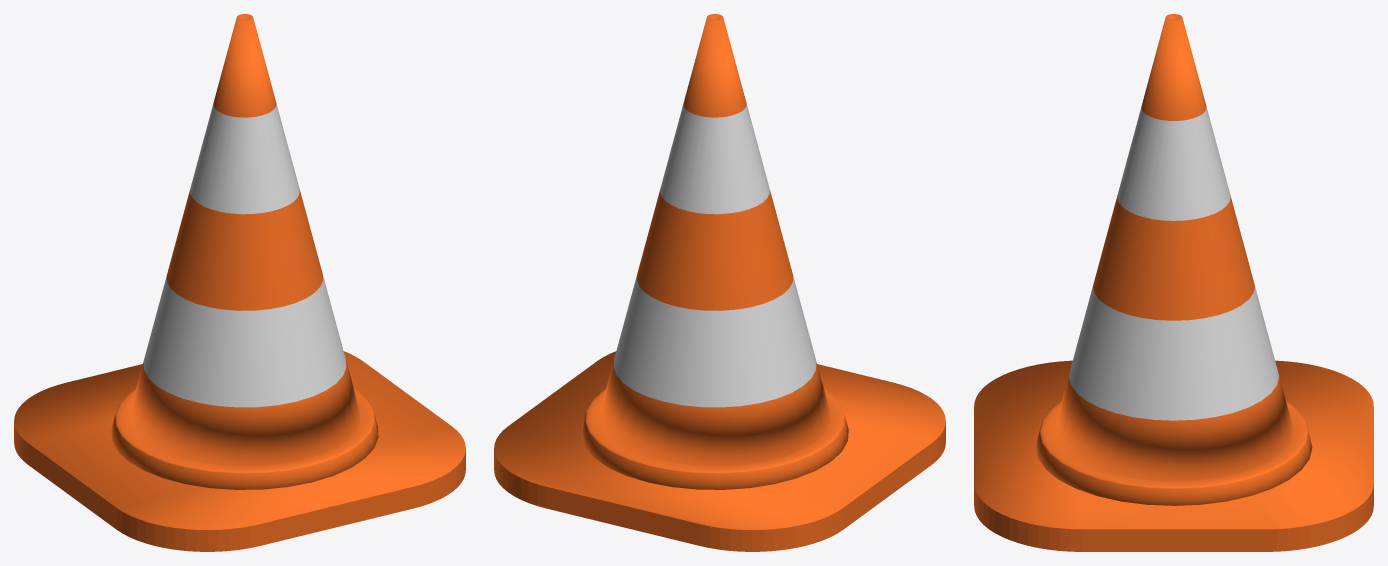
File: traffic_cone.glb
3 views of the same model, side by side, from view 1: azimuth 30°, elevation 25°; view 2: azimuth 150°, elevation 25°; view 3: azimuth 270°, elevation 25° (orthographic). The views are drawn at different scales.
Parts seen in each view (by area): view 1: Cylinder, Cube; view 2: Cylinder, Cube; view 3: Cylinder, Cube.
Part boxes in pixels (x1,y1,x2,y2): Cylinder: [111, 14, 378, 489]; Cube: [14, 351, 465, 551]; Cylinder: [581, 14, 848, 489]; Cube: [494, 351, 945, 551]; Cylinder: [1035, 14, 1312, 505]; Cube: [974, 360, 1373, 551].
Size of the model in its own units: 2.42 by 3.02 by 2.42.
